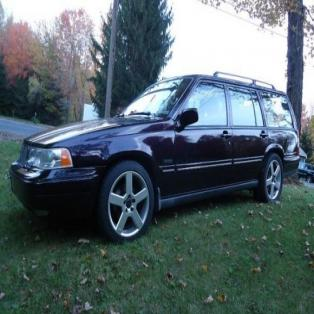Auto: (9, 70, 301, 245)
